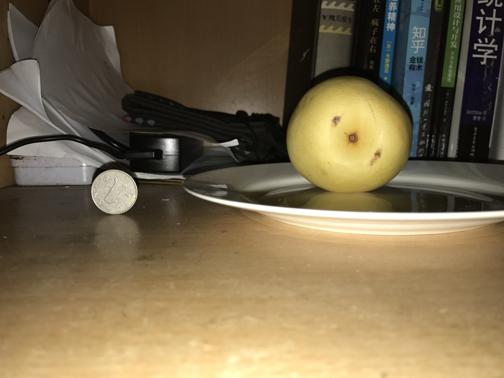coin: (90, 169, 138, 215)
pear: (285, 76, 412, 193)
